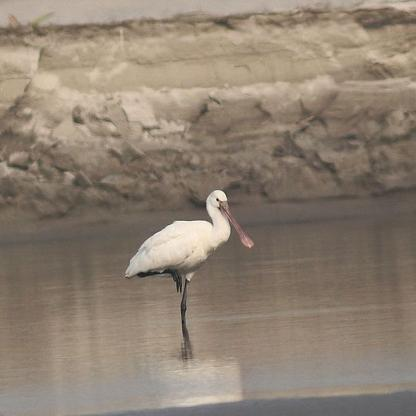Burung: (123, 186, 256, 352)
